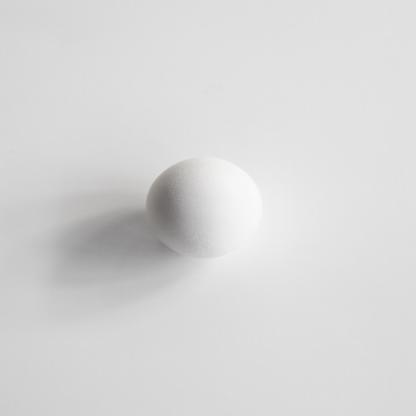egg: (144, 155, 265, 260)
